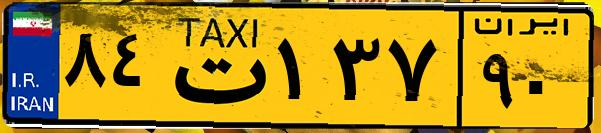0: (525, 38, 570, 115)
1: (270, 28, 330, 110)
3: (330, 28, 385, 110)
4: (110, 28, 158, 98)
7: (385, 28, 445, 110)
8: (57, 26, 110, 100)
9: (475, 38, 525, 113)
ت: (158, 12, 270, 120)
